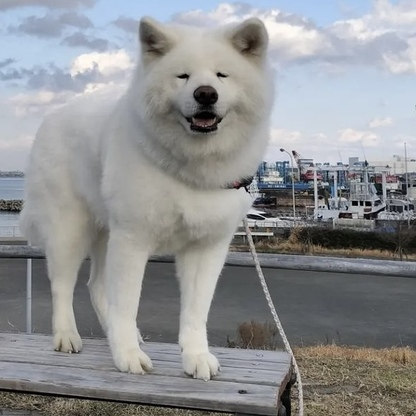akita: (16, 9, 279, 384)
